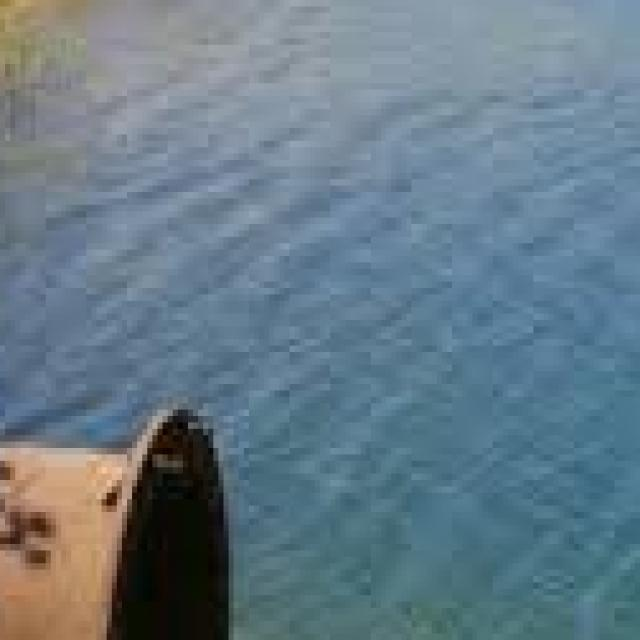-: (340, 0, 640, 640)
